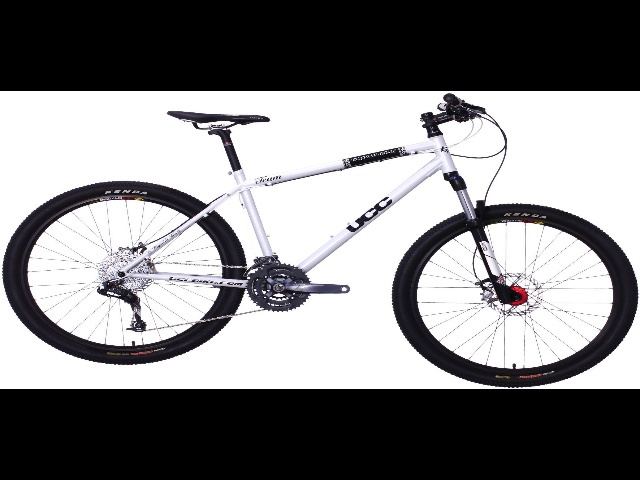bike: (3, 93, 637, 380)
